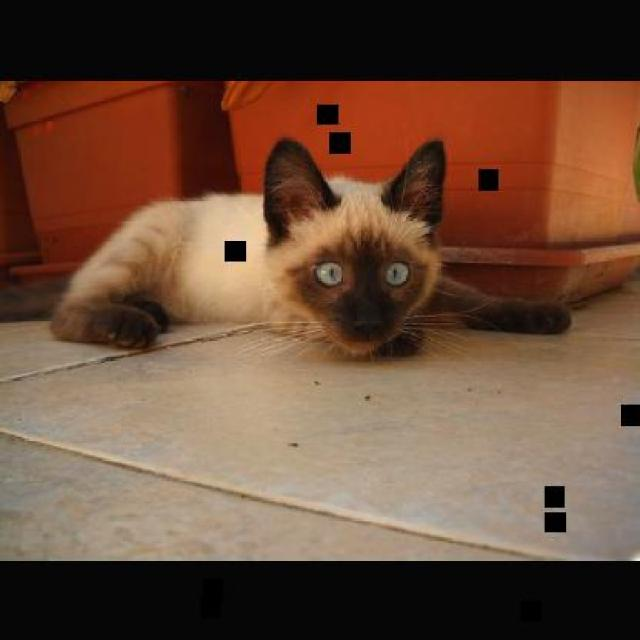unauthorized: (0, 135, 571, 363)
